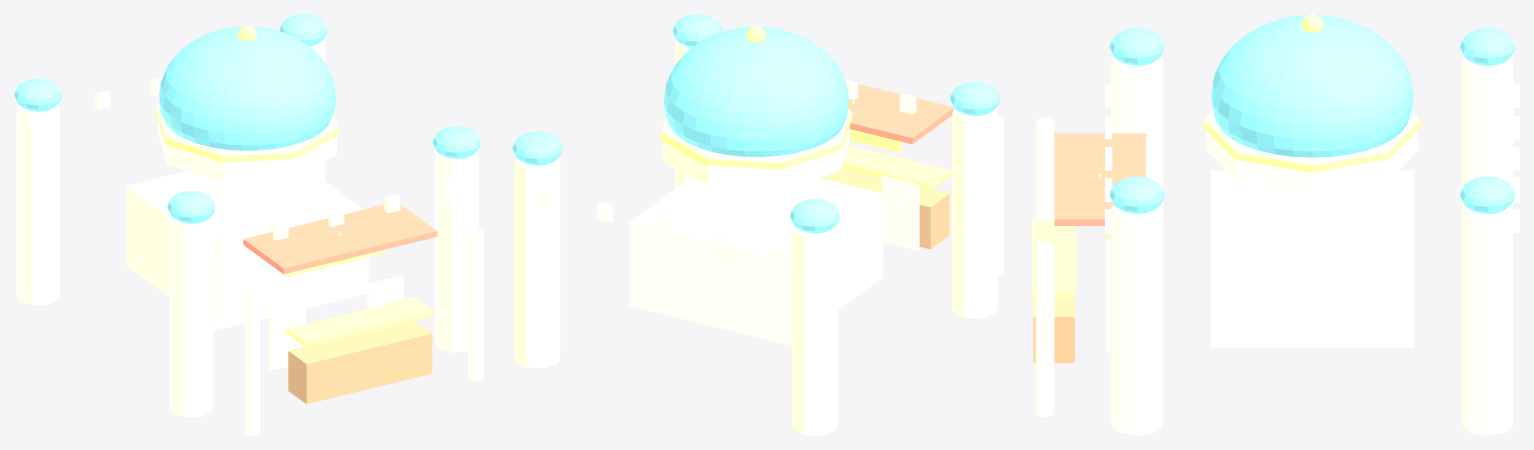
File: Market.glb
3 views of the same model, side by side, from view 1: azimuth 30°, elevation 25°; view 2: azimuth 150°, elevation 25°; view 3: azimuth 270°, elevation 25° (orthographic). The views are drawn at different scales.
Visible parts, largest first — view 1: Base, Dome, Turret_-2_-2, Turret_-2_2, Counter, Turret_2_-2, Awning, Drum, CounterTop, Pillar_L, Pillar_R, DoorPier_L (+6 smaller); view 2: Base, Dome, Turret_-2_2, Turret_-2_-2, Turret_2_2, Drum, Awning, Counter, DoorPier_L, CounterTop, GoldBand, TurretDome_-2_-2 (+5 smaller); view 3: Base, Dome, Turret_2_2, Turret_2_-2, Awning, Drum, Turret_-2_2, Turret_-2_-2, Pillar_R, CounterTop, Pillar_L, GoldBand (+5 smaller).
Part boxes in pixels (x1=…): Base: x1=126, y1=170, x2=368, y2=330; Dome: x1=159, y1=26, x2=335, y2=150; Turret_-2_-2: x1=169, y1=215, x2=213, y2=417; Turret_-2_2: x1=16, y1=103, x2=59, y2=305; Counter: x1=288, y1=320, x2=432, y2=404; Turret_2_-2: x1=435, y1=150, x2=478, y2=352; Awning: x1=243, y1=204, x2=437, y2=274; Drum: x1=158, y1=104, x2=336, y2=182; CounterTop: x1=286, y1=297, x2=434, y2=346; Pillar_L: x1=245, y1=283, x2=260, y2=435; Pillar_R: x1=468, y1=228, x2=483, y2=381; DoorPier_L: x1=269, y1=299, x2=305, y2=370; Base: x1=629, y1=177, x2=882, y2=345; Dome: x1=664, y1=26, x2=848, y2=156; Turret_-2_2: x1=792, y1=224, x2=837, y2=435; Turret_-2_-2: x1=952, y1=107, x2=997, y2=318; Turret_2_2: x1=514, y1=157, x2=560, y2=368; Drum: x1=662, y1=108, x2=849, y2=189; Awning: x1=848, y1=84, x2=953, y2=144; Counter: x1=819, y1=167, x2=949, y2=249; DoorPier_L: x1=881, y1=175, x2=919, y2=250; CounterTop: x1=841, y1=145, x2=951, y2=189; GoldBand: x1=660, y1=111, x2=852, y2=169; TurretDome_-2_-2: x1=950, y1=81, x2=1000, y2=116; Base: x1=1211, y1=170, x2=1413, y2=347; Dome: x1=1211, y1=15, x2=1413, y2=157; Turret_2_2: x1=1461, y1=205, x2=1513, y2=435; Turret_2_-2: x1=1111, y1=205, x2=1162, y2=435; Awning: x1=1054, y1=133, x2=1146, y2=225; Drum: x1=1206, y1=110, x2=1418, y2=195; Turret_-2_2: x1=1461, y1=57, x2=1513, y2=207; Turret_-2_-2: x1=1111, y1=57, x2=1162, y2=207; Pillar_R: x1=1035, y1=242, x2=1054, y2=417; CounterTop: x1=1032, y1=220, x2=1076, y2=297; Pillar_L: x1=1035, y1=117, x2=1054, y2=220; GoldBand: x1=1203, y1=118, x2=1421, y2=172.
Size of the model in its own units: 4.4 by 4.02 by 5.29.
